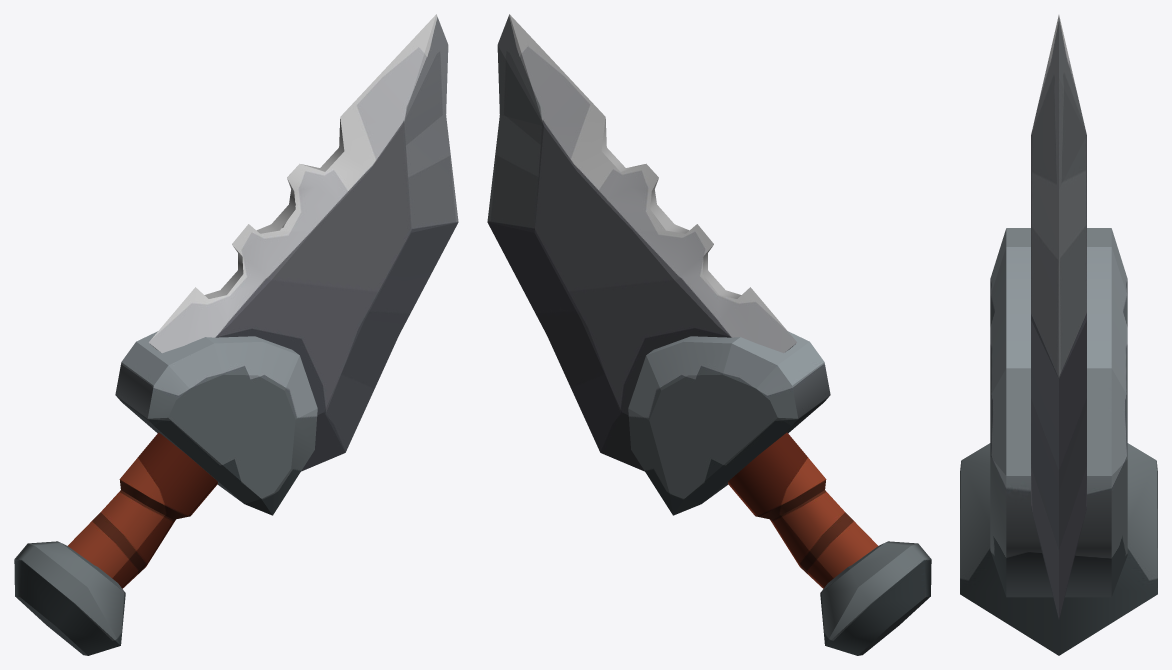
Rendered from Hard_02.FBX.
3 views of the same model, side by side, from view 1: azimuth 30°, elevation 25°; view 2: azimuth 150°, elevation 25°; view 3: azimuth 270°, elevation 25° (orthographic). The views are drawn at different scales.
Visible parts, largest first — view 1: Hard_02; view 2: Hard_02; view 3: Hard_02.
Boxes of the visible parts, left/top/right/bottom form: Hard_02: left=14, top=14, right=458, bottom=655; Hard_02: left=487, top=14, right=931, bottom=655; Hard_02: left=960, top=15, right=1157, bottom=655.
Size of the model in its own units: 60.94 by 73.72 by 14.62.
